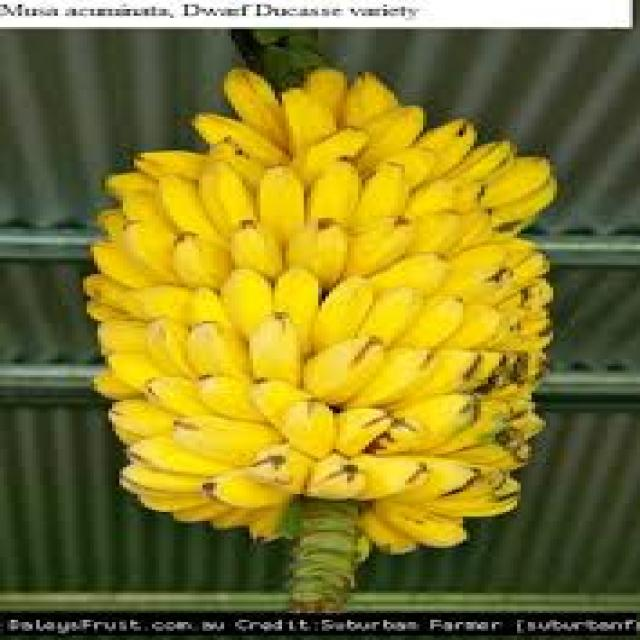banana: (79, 45, 557, 608)
